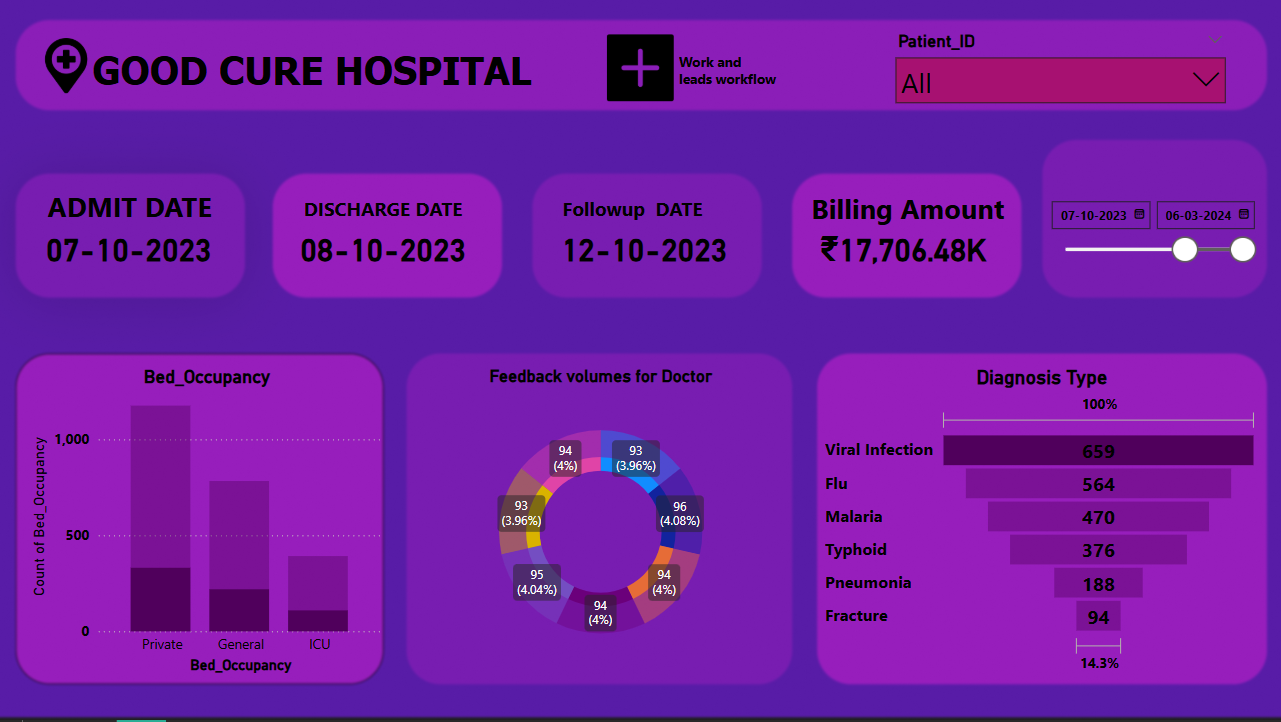

The dashboard page shown, as its layout file describes it:
{"tool":"powerbi","page":{"name":"Page 1","canvas":[1280,720],"ordinal":0},"visuals":[{"type":"image","box":[35.7,38.4,78.2,78.2],"z":0},{"type":"textbox","box":[15.1,53.5,624.4,63.1],"z":1000},{"type":"textbox","box":[670.8,58.3,206.7,54.2],"z":2000},{"type":"image","box":[326.7,41.7,624.2,75],"z":3000},{"type":"slicer","fields":{"Values":["Sheet1.Patient_ID"]},"box":[878.6,38.6,344.3,81.4],"z":4000},{"type":"card","fields":{"Values":["Min(Sheet1.Admit_Date)"]},"box":[0,218.6,272.9,75.7],"z":5000},{"type":"textbox","box":[51.4,192.9,187.1,50],"z":6000},{"type":"textbox","box":[302.9,200,174.3,37.1],"z":7000},{"type":"card","fields":{"Values":["Min(Sheet1.Discharge_Date)"]},"box":[254.3,218.6,264.3,75.7],"z":8000},{"type":"textbox","box":[557.1,200,207.1,37.1],"z":9000},{"type":"card","fields":{"Values":["Min(Sheet1.Followup Date)"]},"box":[510,218.6,264.3,75.7],"z":10000},{"type":"textbox","box":[801.4,194.3,211.4,50],"z":11000},{"type":"card","fields":{"Values":["Sum(Sheet1.Billing Amount)"]},"box":[764.3,218.6,264.3,75.7],"z":12000},{"type":"slicer","fields":{"Values":["Sheet1.Admit_Date"]},"box":[1029.2,200,221.5,152.3],"z":13000},{"type":"columnChart","title":"Bed_Occupancy ","fields":{"Category":["Sheet1.Bed_Occupancy"],"Y":["CountNonNull(Sheet1.Bed_Occupancy)"]},"box":[35,371.7,355,306.7],"z":14000},{"type":"donutChart","title":"Feedback volumes for Doctor","fields":{"Category":["Sheet1.Doctor"],"Y":["CountNonNull(Sheet1.Doctor)"]},"box":[411.4,371.4,377.1,307.1],"z":15000},{"type":"funnel","title":"Diagnosis Type","fields":{"Category":["Sheet1.Diagnosis"],"Y":["CountNonNull(Sheet1.Diagnosis)"]},"box":[814.3,371.4,435.7,307.1],"z":15001}]}

Visuals, with their boxes in screenshot pixels (x1, y1, x2, y2), scaled from the page's 1280x720 canvas onto the 1281x722 screenshot:
image: box=[36, 39, 114, 117]
textbox: box=[15, 54, 640, 117]
textbox: box=[671, 58, 878, 113]
image: box=[327, 42, 952, 117]
slicer - Sheet1.Patient_ID: box=[879, 39, 1224, 120]
card - Min(Sheet1.Admit_Date): box=[0, 219, 273, 295]
textbox: box=[51, 193, 239, 244]
textbox: box=[303, 201, 478, 238]
card - Min(Sheet1.Discharge_Date): box=[254, 219, 519, 295]
textbox: box=[558, 201, 765, 238]
card - Min(Sheet1.Followup Date): box=[510, 219, 775, 295]
textbox: box=[802, 195, 1014, 245]
card - Sum(Sheet1.Billing Amount): box=[765, 219, 1029, 295]
slicer - Sheet1.Admit_Date: box=[1030, 201, 1252, 353]
"Bed_Occupancy " columnChart: box=[35, 373, 390, 680]
"Feedback volumes for Doctor" donutChart: box=[412, 372, 789, 680]
"Diagnosis Type" funnel: box=[815, 372, 1251, 680]
